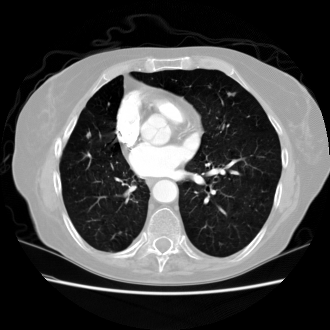nodule: (231, 91, 235, 95)
